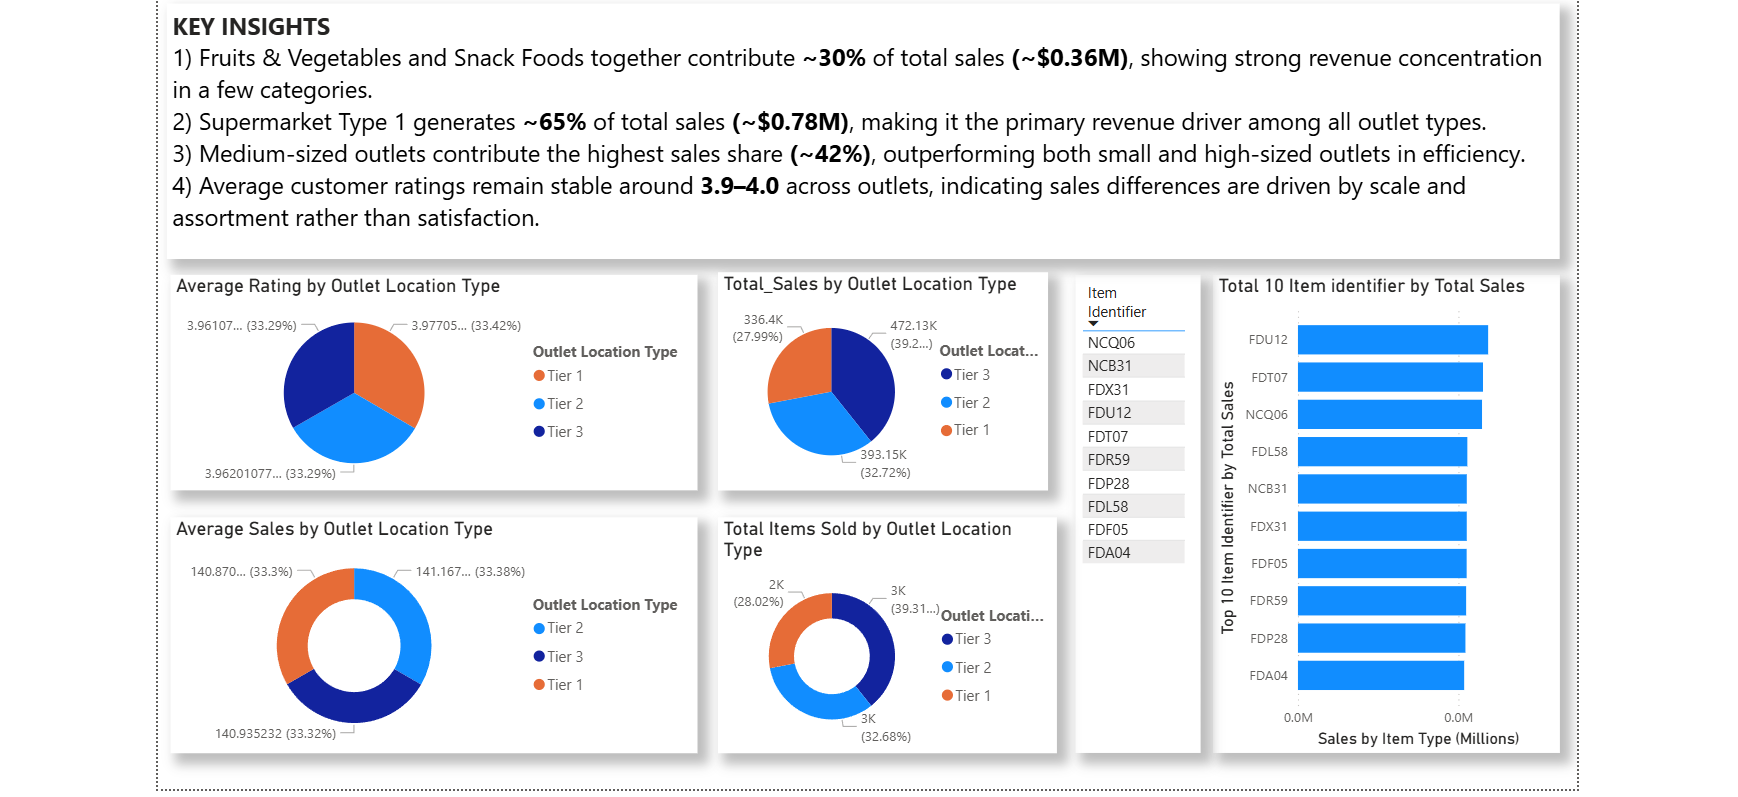

The page's visual inventory and layout, read from the dashboard file:
{"tool":"powerbi","page":{"name":"Details","canvas":[1280,720],"ordinal":1},"visuals":[{"type":"clusteredBarChart","title":"Total 10 Item identifier by Total Sales","fields":{"Y":["Sum(Fact_Sales.Total Sales)"],"Category":["Fact_Sales.Item Identifier"]},"box":[951.2,255.8,312.8,431.4],"z":0},{"type":"tableEx","fields":{"Values":["Fact_Sales.Item Identifier"]},"box":[826.7,255.8,112.8,431.4],"z":1000},{"type":"textbox","box":[8.1,11.6,1255.8,230.2],"z":2000},{"type":"pieChart","fields":{"Y":["Fact_Sales.Average Rating"],"Category":["Fact_Sales.Outlet Location Type"]},"box":[11.6,255.8,475.6,194.2],"z":3000},{"type":"donutChart","fields":{"Category":["Fact_Sales.Outlet Location Type"],"Y":["Fact_Sales.Average Sales"]},"box":[11.6,474.4,475.6,212.8],"z":4000},{"type":"pieChart","fields":{"Y":["Fact_Sales.Total_Sales"],"Category":["Fact_Sales.Outlet Location Type"]},"box":[504.7,253.5,297.7,196.5],"z":5000},{"type":"donutChart","fields":{"Y":["Fact_Sales.Total Items Sold"],"Category":["Fact_Sales.Outlet Location Type"]},"box":[504.7,474.4,305.8,212.8],"z":6000}]}

Visuals, with their boxes on the page's 1280x720 design canvas (x1, y1, x2, y2). These are canvas units, not pixel positions in the 1738x797 screenshot, which may show the page scaled, cropped or inside an application window:
"Total 10 Item identifier by Total Sales" clusteredBarChart: (951,256,1264,687)
tableEx - Fact_Sales.Item Identifier: (827,256,940,687)
textbox: (8,12,1264,242)
pieChart - Fact_Sales.Average Rating x Fact_Sales.Outlet Location Type: (12,256,487,450)
donutChart - Fact_Sales.Outlet Location Type x Fact_Sales.Average Sales: (12,474,487,687)
pieChart - Fact_Sales.Total_Sales x Fact_Sales.Outlet Location Type: (505,254,802,450)
donutChart - Fact_Sales.Total Items Sold x Fact_Sales.Outlet Location Type: (505,474,810,687)
